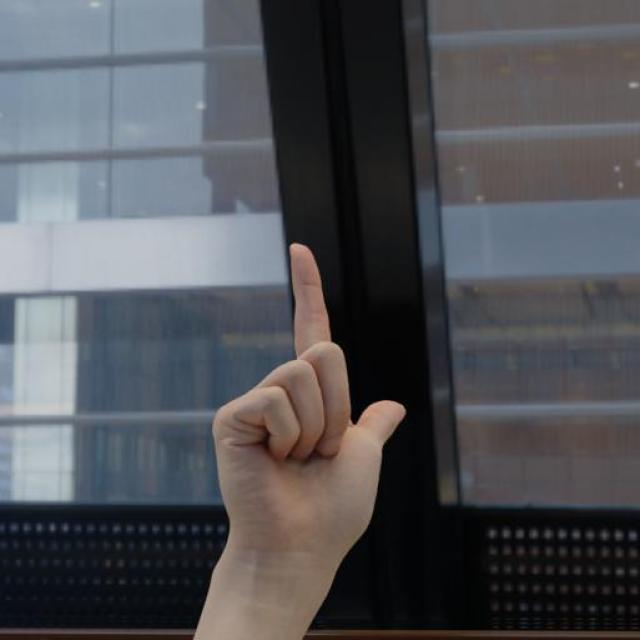L: (207, 240, 411, 566)
